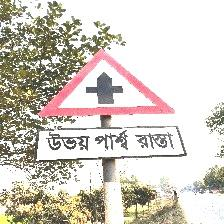Crossroad: (36, 48, 186, 161)
